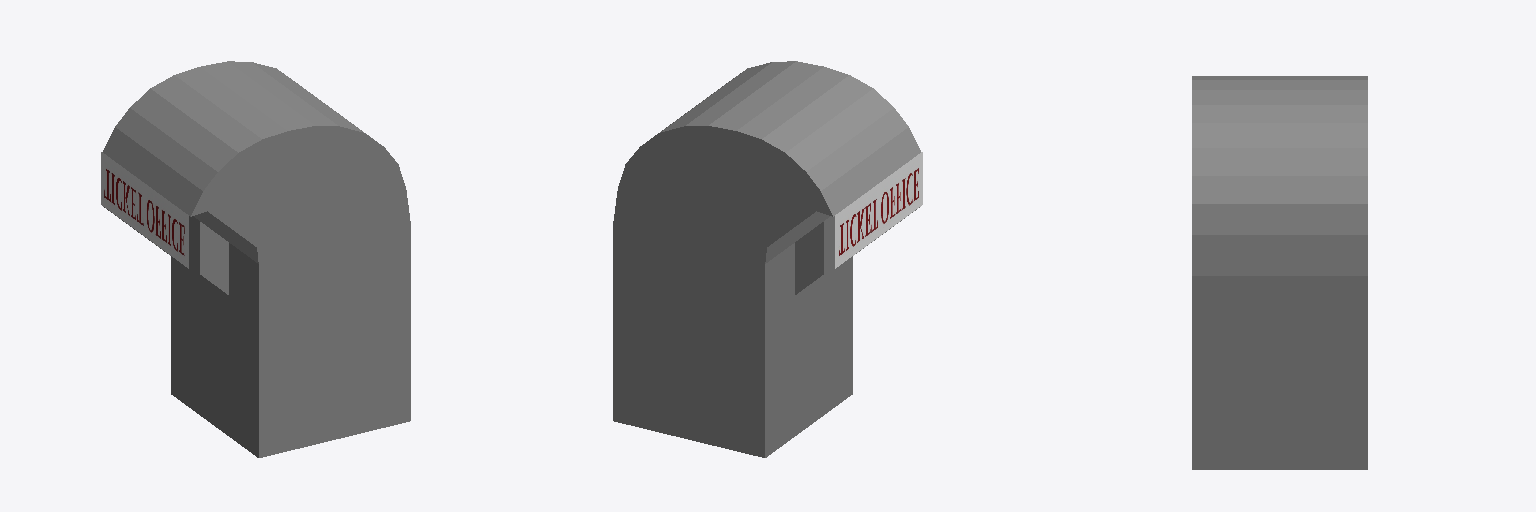
The picture shows the model from 3 angles: view 1: azimuth 30°, elevation 25°; view 2: azimuth 150°, elevation 25°; view 3: azimuth 270°, elevation 25°; orthographic projection.
Visible parts, largest first — view 1: Shape02, sign_2; view 2: Shape02, sign_2; view 3: Shape02.
Boxes of the visible parts, x1=… form: Shape02: x1=103, y1=61, x2=410, y2=457; sign_2: x1=101, y1=152, x2=188, y2=268; Shape02: x1=613, y1=61, x2=920, y2=457; sign_2: x1=835, y1=152, x2=922, y2=268; Shape02: x1=1192, y1=76, x2=1367, y2=469.
Bounding box in the file's own units: 10.94 × 15.05 × 7.51.
Materials: 2 (1 with a texture image).